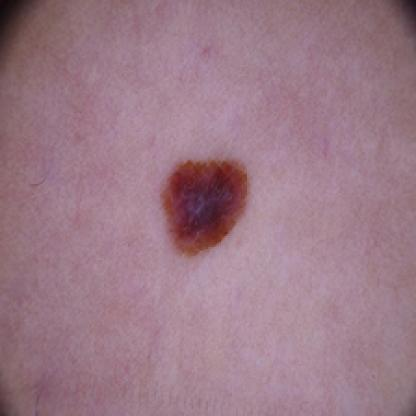Skin_Cancer-Malignant: (159, 156, 250, 256)
